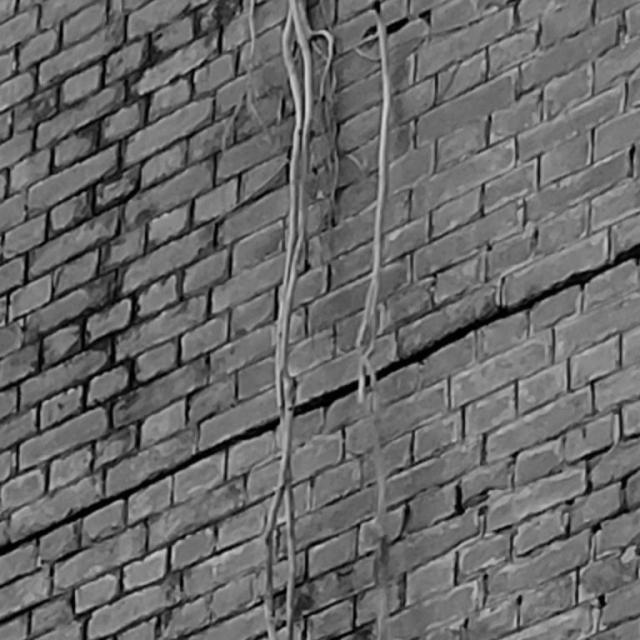crack: (1, 244, 639, 555)
